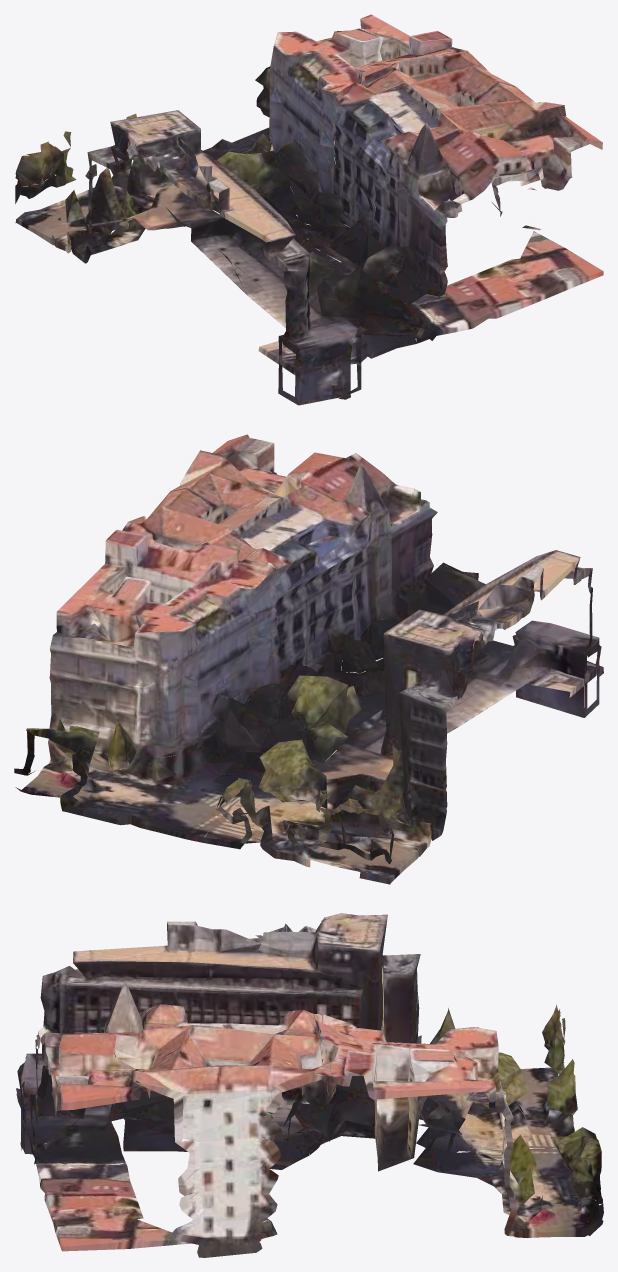
3 views of the same model, one above another, from view 1: azimuth 30°, elevation 25°; view 2: azimuth 150°, elevation 25°; view 3: azimuth 270°, elevation 25° (orthographic). The views are drawn at different scales.
Visible parts, largest first — view 1: Mesh_0; view 2: Mesh_0; view 3: Mesh_0.
Boxes of the visible parts, left/top/right/bottom form: Mesh_0: left=15, top=14, right=603, bottom=405; Mesh_0: left=14, top=434, right=603, bottom=884; Mesh_0: left=16, top=913, right=603, bottom=1257.
Bounding box in the file's own units: 66.85 × 36.86 × 82.73.
Materials: 1 (1 with a texture image).
